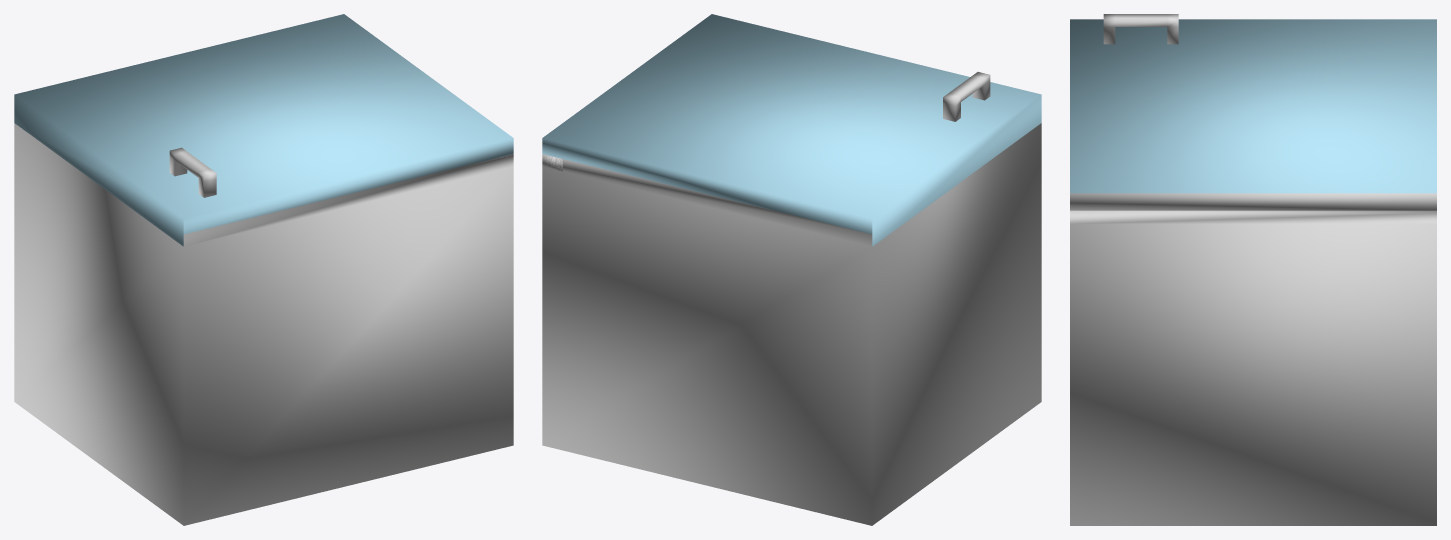
The model's file is little_fly_closet.fbx.
3 renders of one model, left to right at view 1: azimuth 30°, elevation 25°; view 2: azimuth 150°, elevation 25°; view 3: azimuth 270°, elevation 25°, orthographic. The views are drawn at different scales.
Parts seen in each view (by area): view 1: Навесной маленький; view 2: Навесной маленький; view 3: Навесной маленький.
Boxes of the visible parts, <box> form: Навесной маленький: <box>14,14,513,525</box>; Навесной маленький: <box>542,14,1041,525</box>; Навесной маленький: <box>1070,14,1436,525</box>.
Size of the model in its own units: 39.31 by 37.55 by 35.
